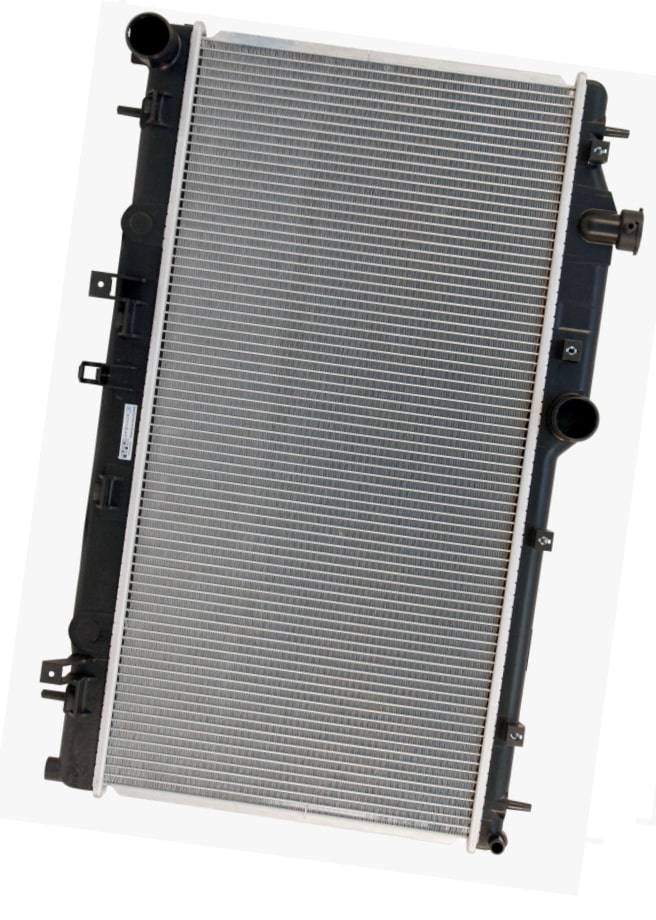c1: (584, 120, 632, 166)
c10: (129, 211, 155, 239)
c11: (88, 268, 152, 340)
c12: (76, 358, 141, 396)
c13: (90, 472, 127, 512)
c14: (40, 657, 102, 720)
c2: (579, 202, 646, 259)
c3: (561, 338, 584, 365)
c4: (549, 390, 602, 444)
c5: (530, 526, 555, 554)
c6: (502, 718, 527, 749)
c7: (484, 796, 533, 856)
c8: (124, 10, 183, 66)
c9: (116, 87, 173, 130)
